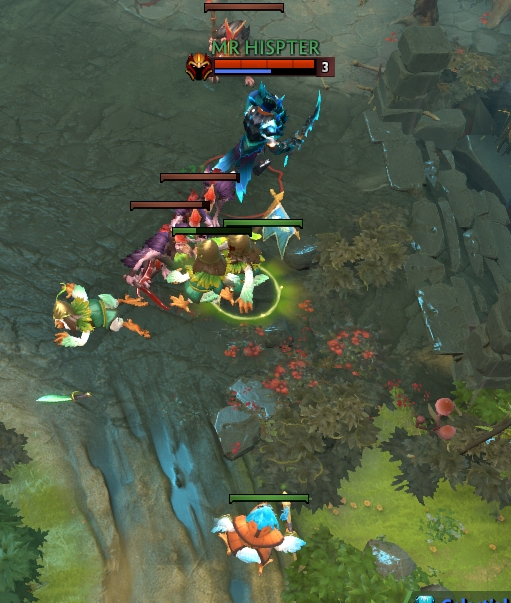allyCreep: (169, 221, 257, 238), (211, 215, 309, 229), (225, 490, 312, 504)
enemyCreep: (199, 0, 287, 14), (156, 169, 243, 183), (126, 200, 215, 213)
